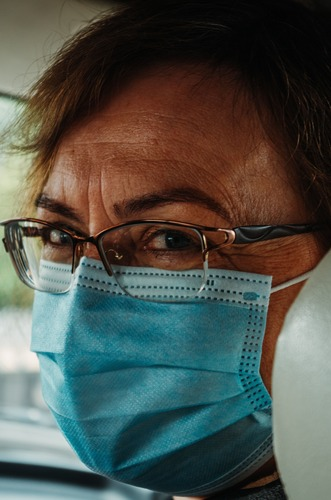with_mask: (33, 131, 280, 477)
